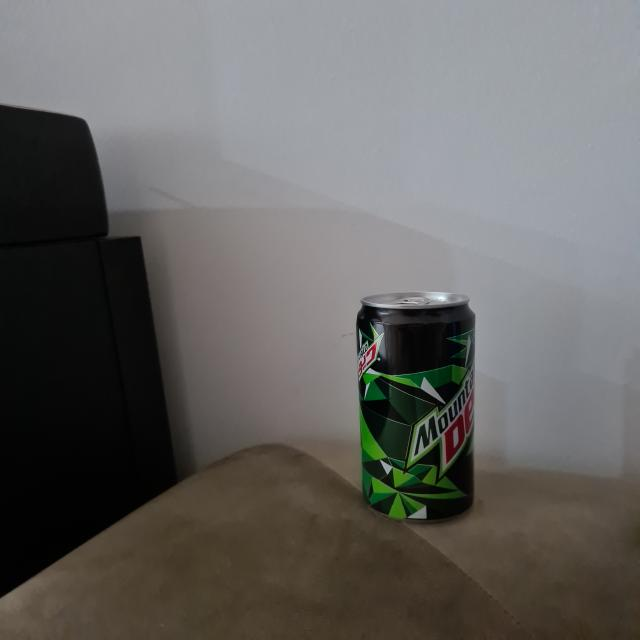non-organic waste: (348, 288, 487, 529)
